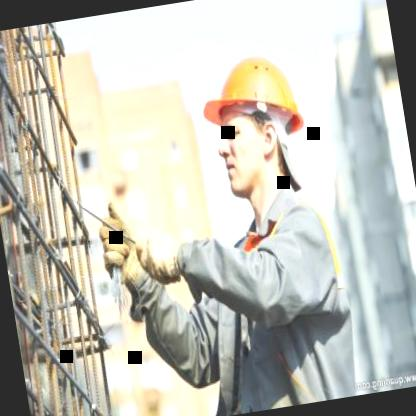helmet: (190, 28, 322, 218)
